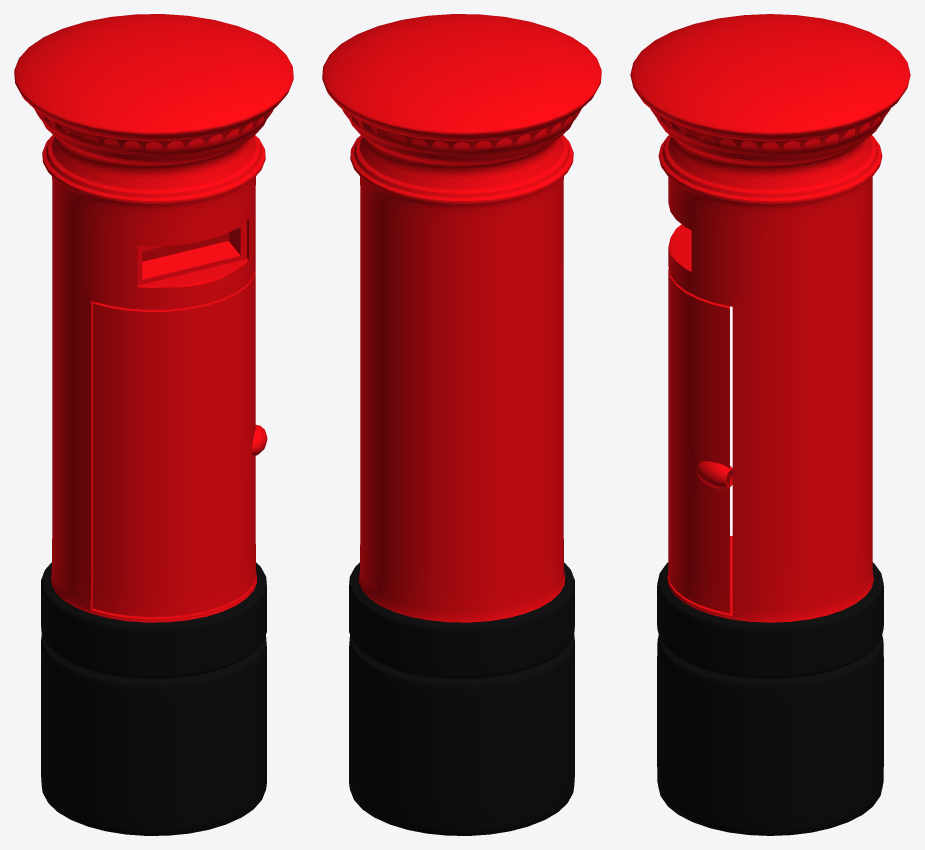
File: Postbox_LP.fbx
The picture shows the model from 3 angles, left to right: view 1: azimuth 30°, elevation 25°; view 2: azimuth 150°, elevation 25°; view 3: azimuth 270°, elevation 25°; orthographic projection.
Visible parts, largest first — view 1: Circle; view 2: Circle; view 3: Circle.
Part boxes in pixels (x1=…): Circle: x1=14, y1=14, x2=293, y2=835; Circle: x1=322, y1=14, x2=601, y2=835; Circle: x1=630, y1=14, x2=910, y2=835.
Bounding box in the file's own units: 241 × 703 × 241.
